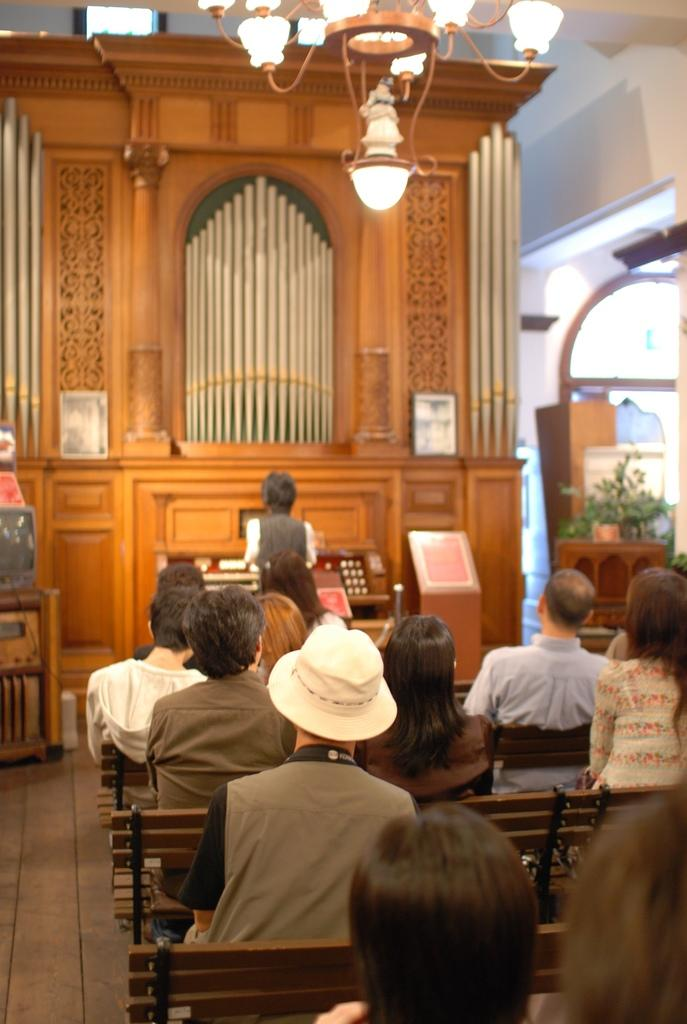Hat: (266, 619, 400, 742)
